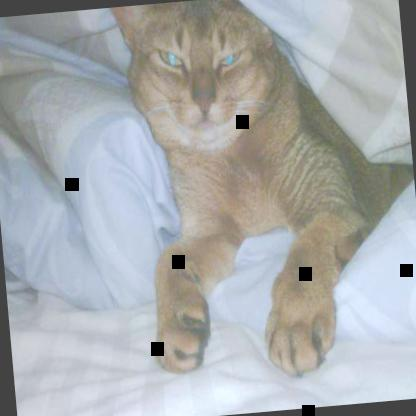cat: (94, 0, 415, 394)
